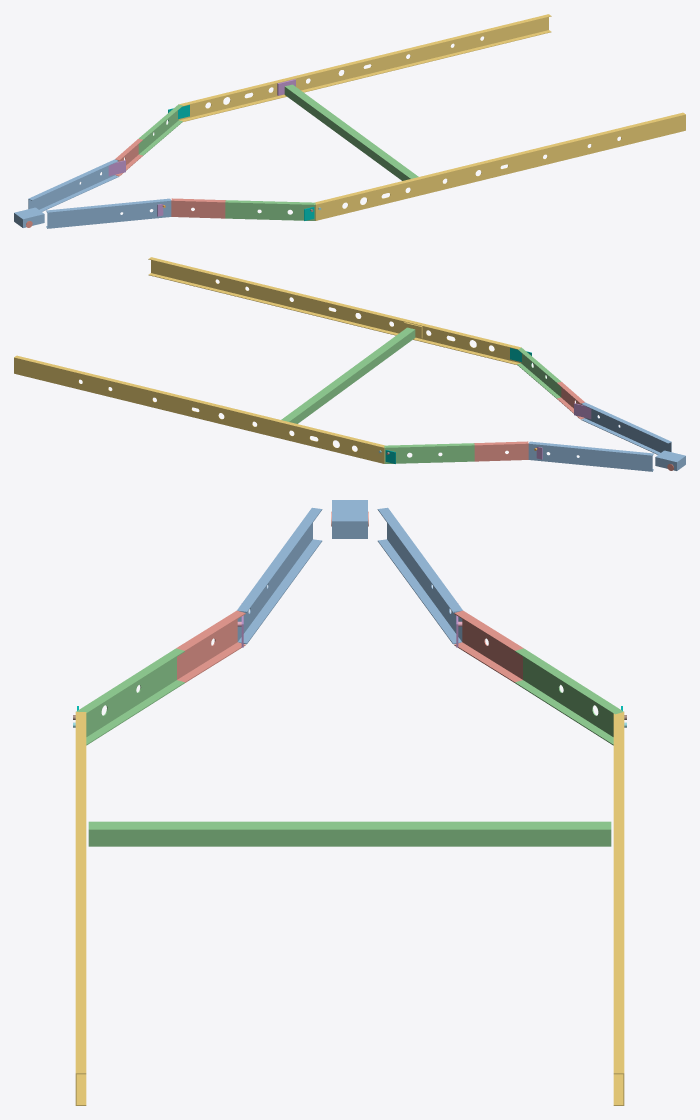
The model's file is as_found.glb.
3 renders of one model, top to bottom at view 1: azimuth 30°, elevation 25°; view 2: azimuth 150°, elevation 25°; view 3: azimuth 270°, elevation 25°, orthographic. The views are drawn at different scales.
Parts seen in each view (by area): view 1: part_3, part_13, part_0, =>[0:1:1:61], part_10, part_2, part_1, part_12, =>[0:1:1:55], part_11; view 2: part_13, part_3, part_10, =>[0:1:1:61], part_0, part_12, part_11, part_2, =>[0:1:1:55], part_1; view 3: =>[0:1:1:61], part_3, part_13, part_12, part_2, part_0, part_10, part_1, part_11, =>[0:1:1:55].
Boxes of the visible parts, bbox=[...] form: part_3: bbox=[315, 112, 685, 220]; part_13: bbox=[178, 14, 551, 122]; part_0: bbox=[46, 198, 171, 228]; =>[0:1:1:61]: bbox=[284, 84, 418, 180]; part_10: bbox=[28, 159, 118, 211]; part_2: bbox=[225, 200, 315, 220]; part_1: bbox=[171, 198, 225, 218]; part_12: bbox=[138, 104, 182, 155]; =>[0:1:1:55]: bbox=[14, 207, 44, 227]; part_11: bbox=[115, 138, 142, 176]; part_13: bbox=[14, 355, 384, 463]; part_3: bbox=[148, 257, 521, 365]; part_10: bbox=[528, 441, 653, 471]; =>[0:1:1:61]: bbox=[281, 327, 415, 423]; part_0: bbox=[581, 402, 671, 454]; part_12: bbox=[384, 443, 474, 463]; part_11: bbox=[474, 441, 528, 461]; part_2: bbox=[517, 347, 561, 398]; =>[0:1:1:55]: bbox=[655, 450, 685, 470]; part_1: bbox=[557, 381, 584, 419]; =>[0:1:1:61]: bbox=[88, 821, 611, 846]; part_3: bbox=[75, 712, 86, 1105]; part_13: bbox=[613, 712, 624, 1105]; part_12: bbox=[515, 648, 623, 745]; part_2: bbox=[76, 648, 184, 745]; part_0: bbox=[237, 507, 322, 644]; part_10: bbox=[377, 507, 462, 644]; part_1: bbox=[176, 610, 245, 682]; part_11: bbox=[454, 610, 523, 682]; =>[0:1:1:55]: bbox=[332, 500, 367, 538].
Bounding box in the file's own units: 3865 × 100 × 1548.
